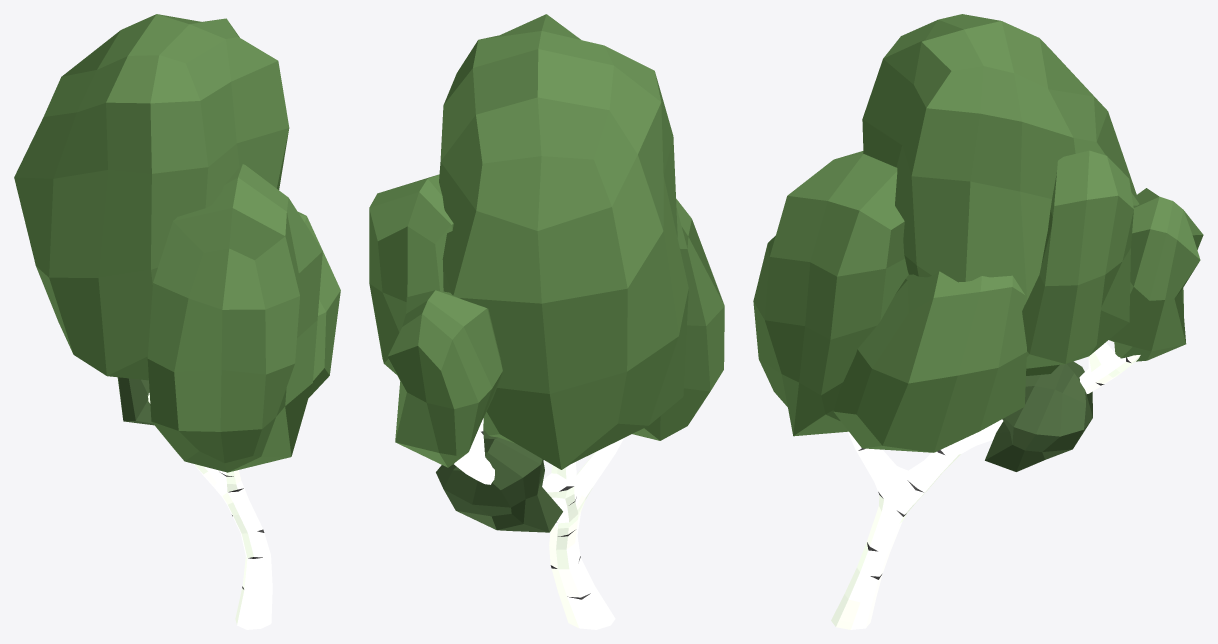
Rendered from BirchTree_1.glb.
3 views of the same model, side by side, from view 1: azimuth 30°, elevation 25°; view 2: azimuth 150°, elevation 25°; view 3: azimuth 270°, elevation 25° (orthographic). The views are drawn at different scales.
Parts seen in each view (by area): view 1: BirchTree_1; view 2: BirchTree_1; view 3: BirchTree_1.
Boxes of the visible parts, bbox=[...] form: BirchTree_1: bbox=[14, 14, 340, 629]; BirchTree_1: bbox=[369, 14, 724, 629]; BirchTree_1: bbox=[753, 14, 1203, 629].
Bounding box in the file's own units: 170 × 357 × 248.
